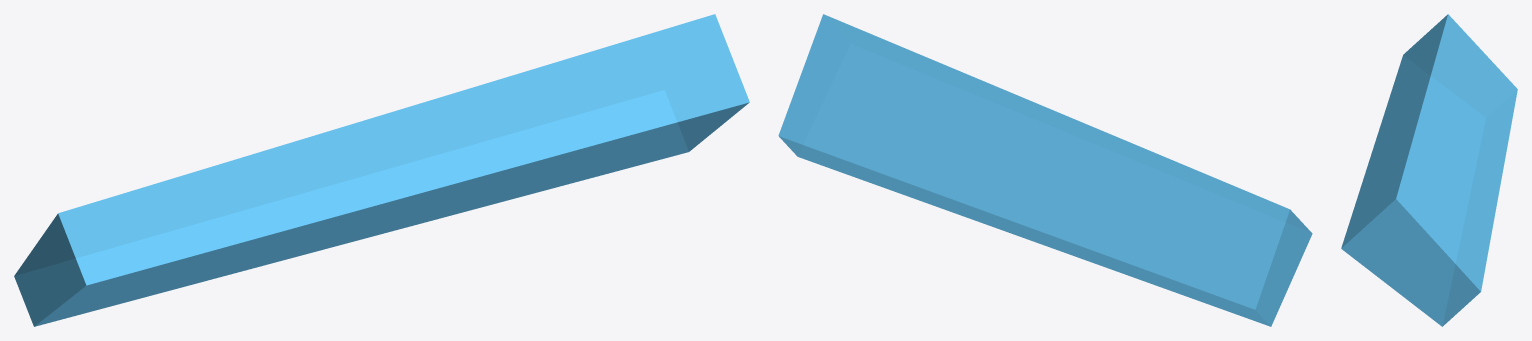
File: Event_421115418_HErechit_122.fbx
3 views of the same model, side by side, from view 1: azimuth 30°, elevation 25°; view 2: azimuth 150°, elevation 25°; view 3: azimuth 270°, elevation 25° (orthographic). The views are drawn at different scales.
Parts seen in each view (by area): view 1: Model; view 2: Model; view 3: Model.
Boxes of the visible parts, box(x1,y1,x2,y2) form: Model: box(14, 14, 749, 326); Model: box(778, 14, 1312, 326); Model: box(1341, 14, 1517, 326).
Bounding box in the file's own units: 2.47 × 0.7619 × 0.7619.
